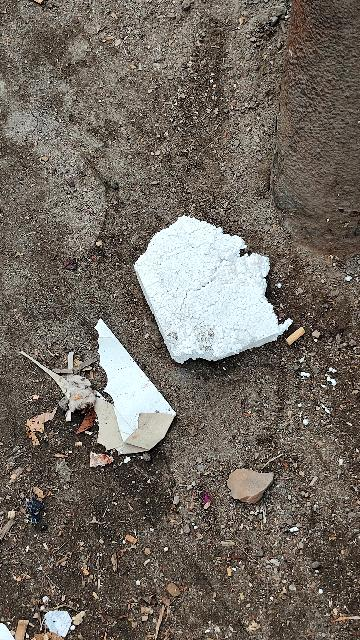cocksheet: (100, 191, 312, 414), (46, 328, 180, 460)
